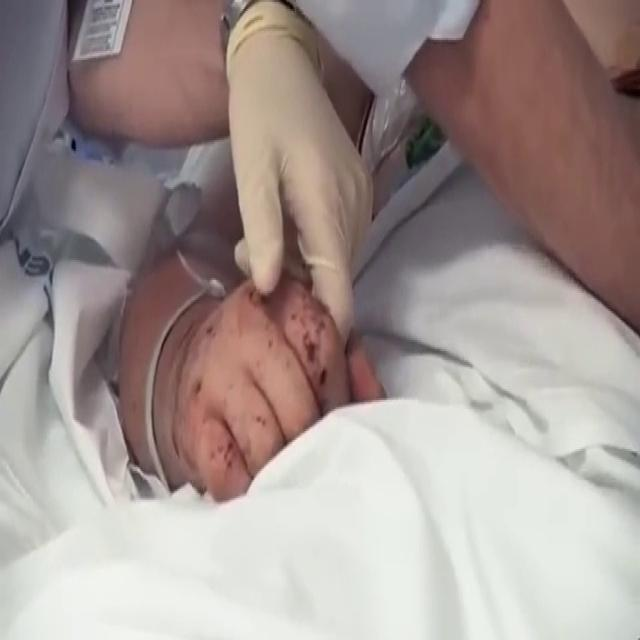patient: (112, 226, 388, 504)
